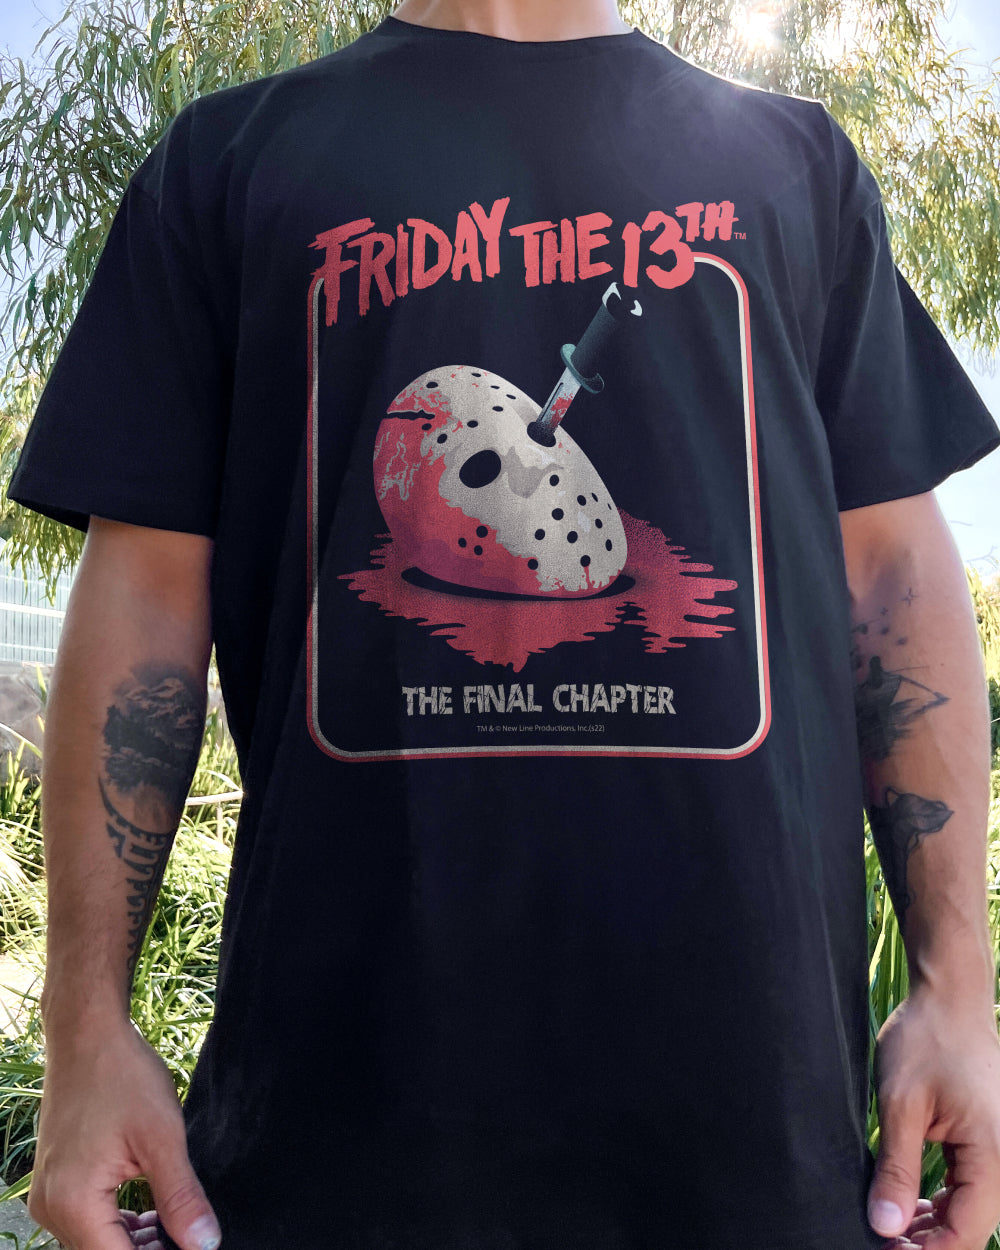design: (296, 186, 779, 769)
